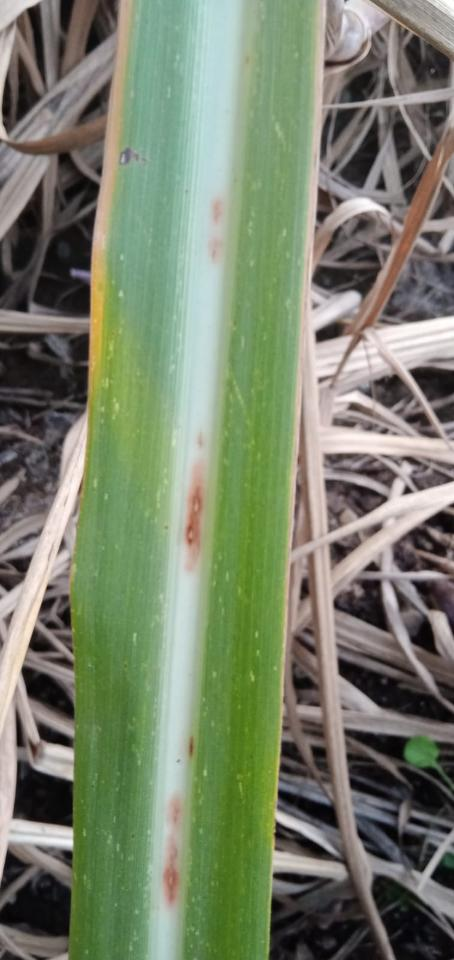RedRot: (161, 729, 202, 906), (181, 419, 208, 577), (206, 195, 233, 268)
Yellow: (88, 1, 132, 399)
